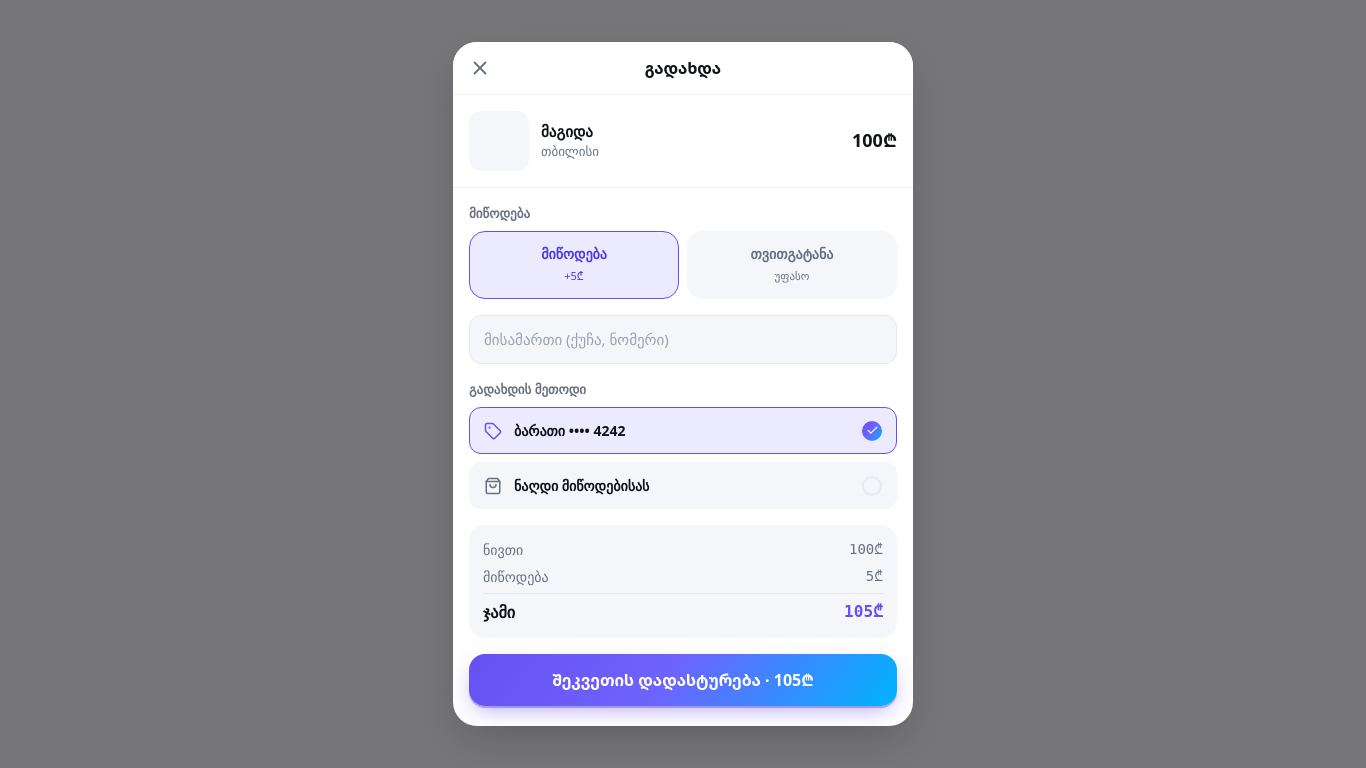
it: Checkout › switching to pickup drops the fee to 0, hides the address field, and totals just the item price
This screenshot has width=1366, height=768.
Later steps or results of the test are not shown.
Check: the field with placeholder "მისამართი (ქუჩა, ნომერი)" is shown, box [469, 315, 897, 364]
What coordinates should you click on to do the following:
click the button "თვითგატანა უფასო"
I would click on:
 (792, 265)
Its box is [687, 231, 897, 299].
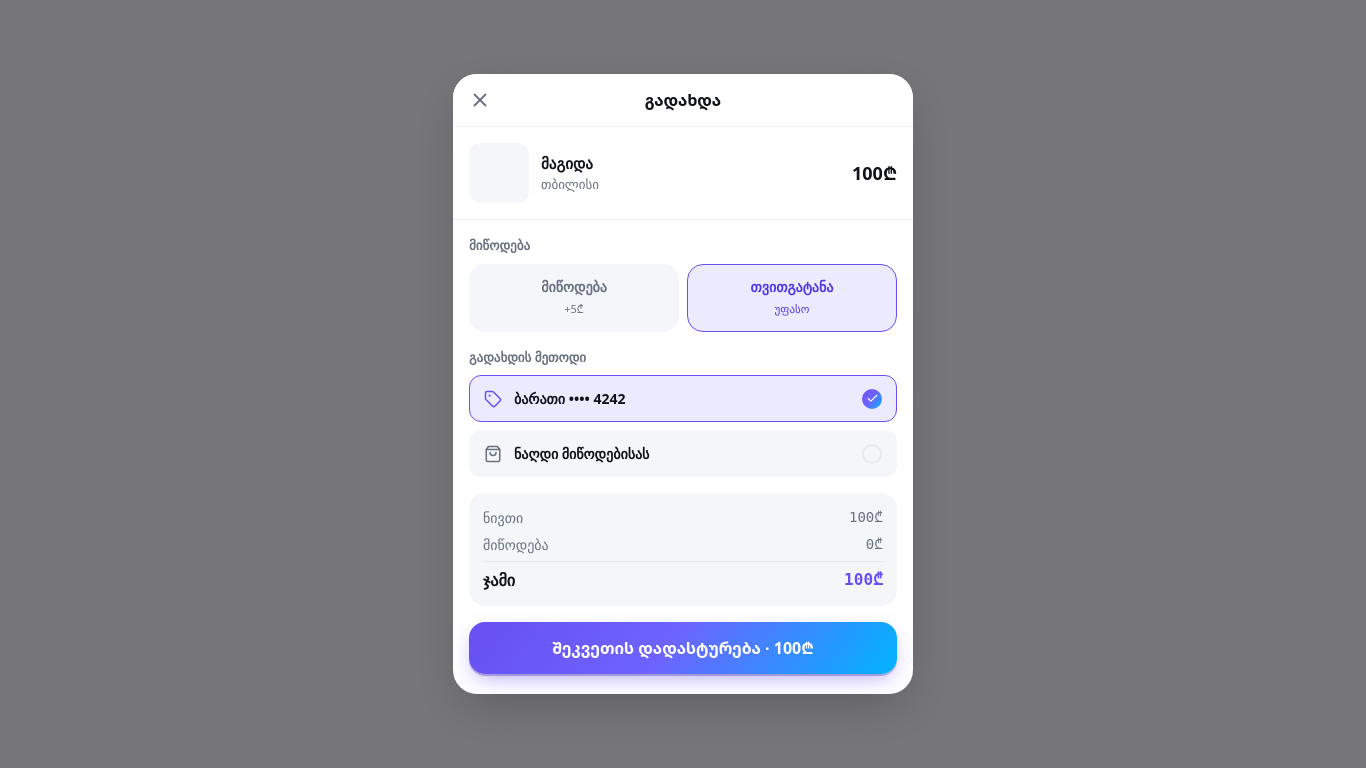
Check: the field with placeholder "მისამართი (ქუჩა, ნომერი)" is not shown
Check: the text "0₾" is shown, box [866, 534, 883, 555]
